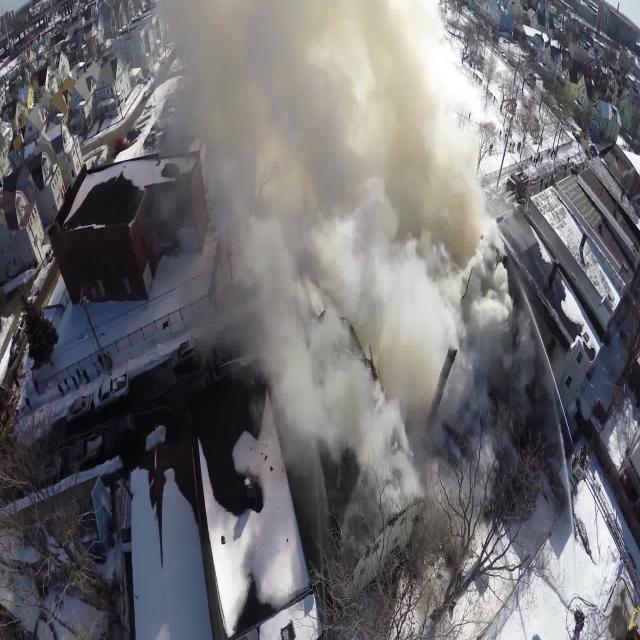Smoke: (155, 0, 512, 497)
